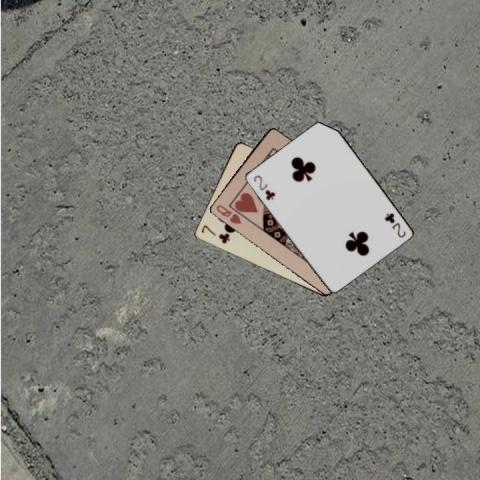2c: (250, 172, 277, 202), (382, 210, 407, 239)
7c: (198, 222, 231, 245)
Qh: (212, 201, 242, 226)
